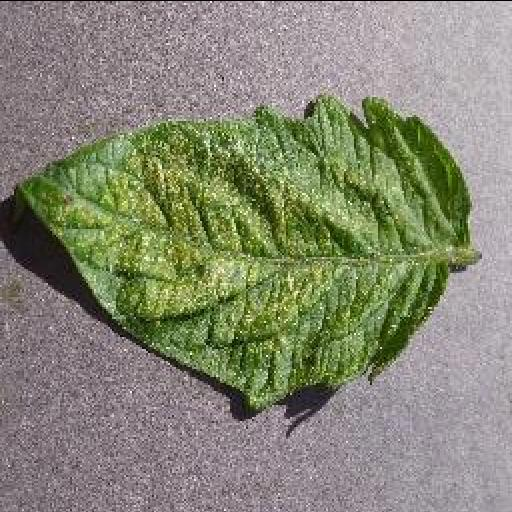disease_tomato: (18, 97, 472, 407)
